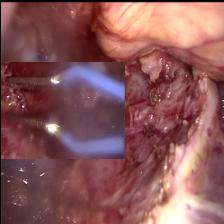Bipolar: (0, 61, 124, 158)
